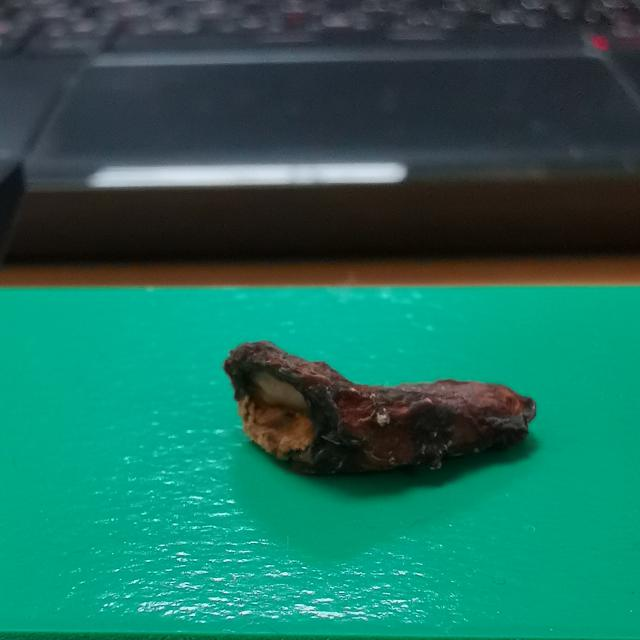Flat_cocoabeans: (174, 304, 562, 515)
